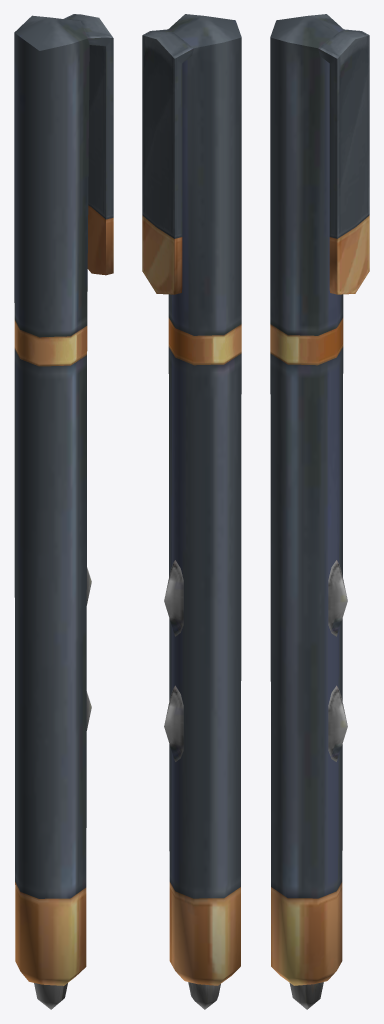
The model's file is Hero_Veronica_Cos19Job_Weapon_R.fbx.
3 views of the same model, side by side, from view 1: azimuth 30°, elevation 25°; view 2: azimuth 210°, elevation 25°; view 3: azimuth 330°, elevation 25° (orthographic).
Visible parts, largest first — view 1: Hero_Veronica_Cos19Job_Weapon_R; view 2: Hero_Veronica_Cos19Job_Weapon_R; view 3: Hero_Veronica_Cos19Job_Weapon_R.
Part boxes in pixels (x1,y1,x2,y2): Hero_Veronica_Cos19Job_Weapon_R: [14, 14, 113, 1009]; Hero_Veronica_Cos19Job_Weapon_R: [142, 14, 241, 1009]; Hero_Veronica_Cos19Job_Weapon_R: [270, 14, 369, 1009].
Bounding box in the file's own units: 0.0241 × 0.2886 × 0.0204.
Materials: 1 (1 with a texture image).
